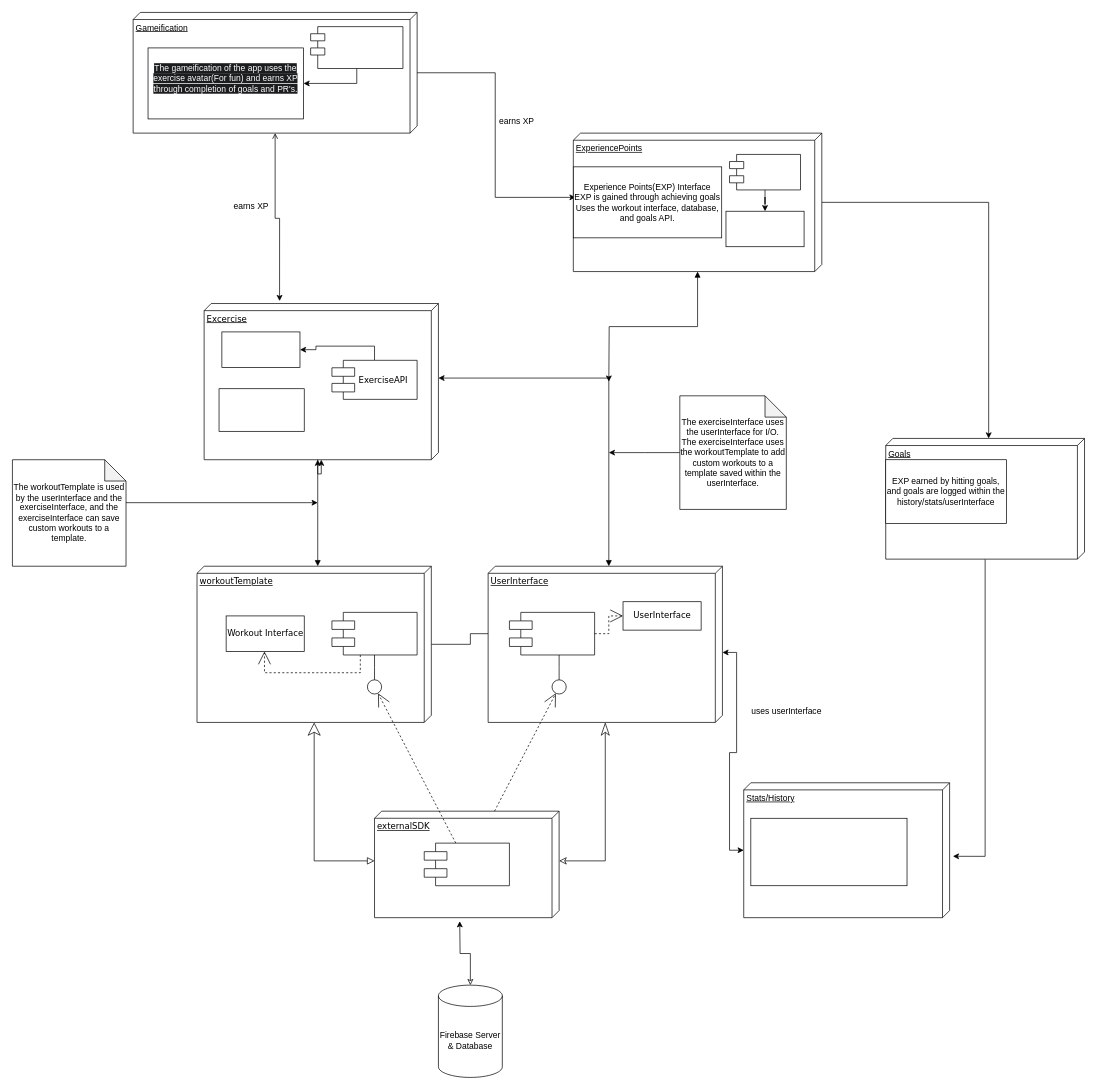
Some shapes in this 1097 by 1090 pixel diagram are drawn without their labels. The shapes that lost their labels are listed below. From the top down, each one's centre as x and y in pixels, then its label:
At (356,47): "GameificationAPI".
At (765,172): "ExpAPI".
At (764,229): "experiencePoints Interface".
At (260,349): "Exercise Interface".
At (261,409): "Users create/edit/begin/end a workout.".
At (374,633): "workoutAPI".
At (552,633): "User Interface API".
At (466,864): "Firebase".
At (828,852): "History and Stats are stored and saved, along with goals and Experience Points".
